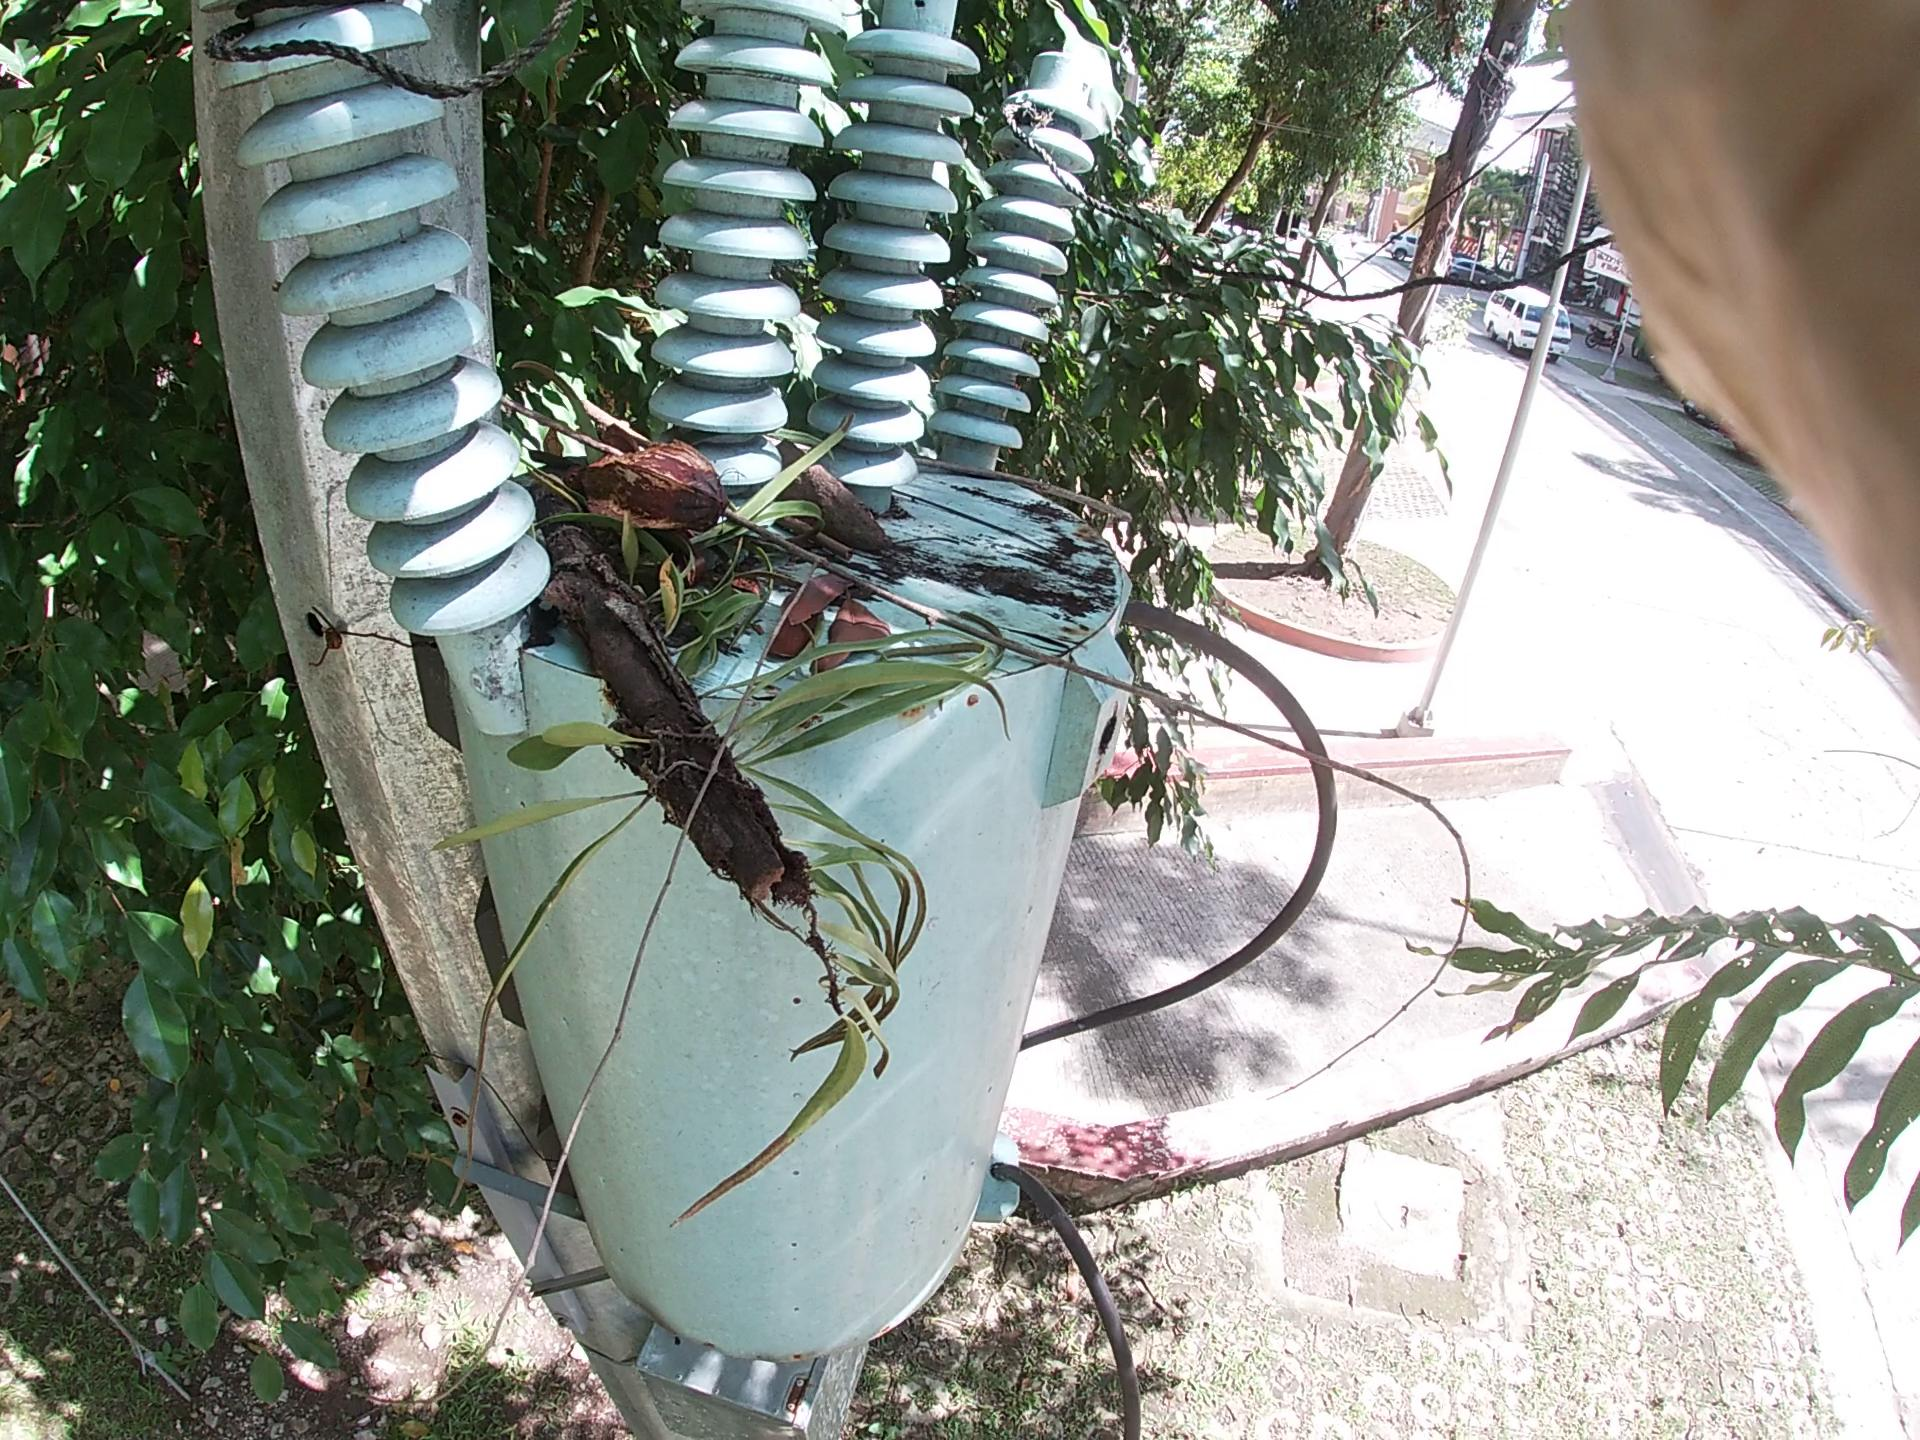branch with leaves: (517, 489, 934, 962)
leaf: (742, 570, 897, 673)
mahogany fruit: (773, 417, 990, 557), (594, 408, 770, 535)
tree branch: (500, 389, 1473, 862), (915, 446, 1181, 546), (754, 473, 918, 626)
